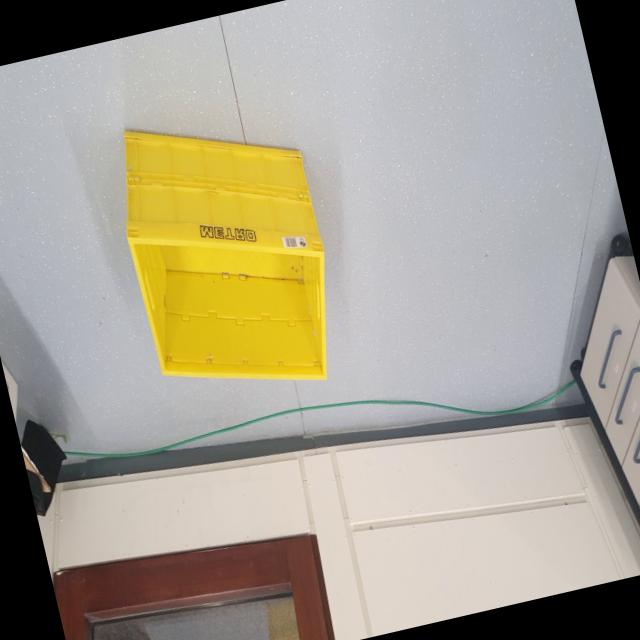box: (94, 86, 362, 424)
